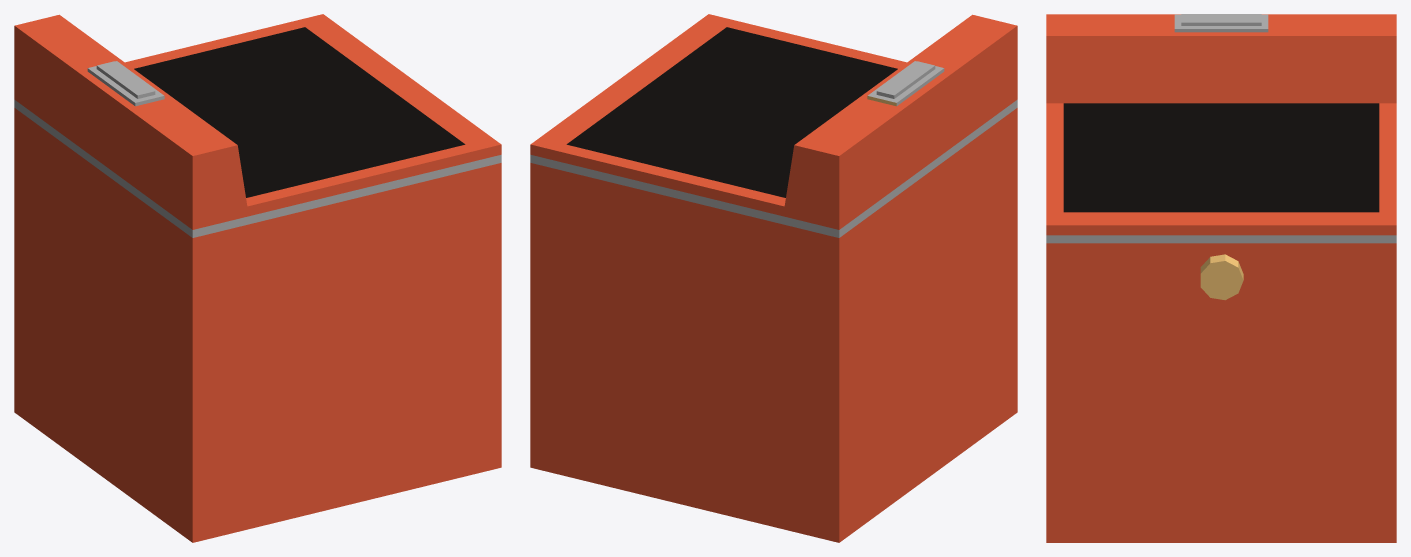
File: Stove.fbx
The picture shows the model from 3 angles, left to right: view 1: azimuth 30°, elevation 25°; view 2: azimuth 150°, elevation 25°; view 3: azimuth 270°, elevation 25°; orthographic projection.
Visible parts, largest first — view 1: Stove; view 2: Stove; view 3: Stove.
Part boxes in pixels (left/top/right/bottom): Stove: left=14, top=14, right=501, bottom=542; Stove: left=530, top=14, right=1017, bottom=542; Stove: left=1046, top=14, right=1396, bottom=542.
Bounding box in the file's own units: 209 × 244 × 200.
